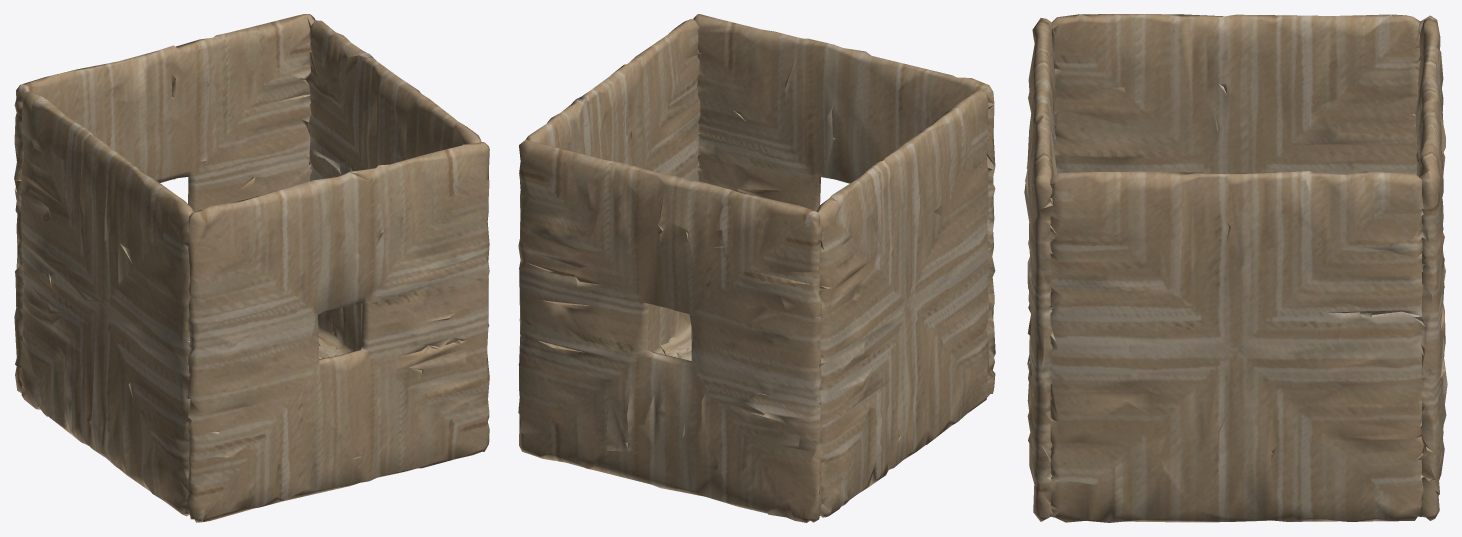
Rendered from knipsa_kosz_20110540.glb.
3 renders of one model, left to right at view 1: azimuth 30°, elevation 25°; view 2: azimuth 150°, elevation 25°; view 3: azimuth 270°, elevation 25°, orthographic. The views are drawn at different scales.
Visible parts, largest first — view 1: knipsa_kosz_20110540; view 2: knipsa_kosz_20110540; view 3: knipsa_kosz_20110540.
Part boxes in pixels (x1,y1,x2,y2): knipsa_kosz_20110540: (14,14,489,522); knipsa_kosz_20110540: (518,14,995,522); knipsa_kosz_20110540: (1024,14,1447,522).
Bounding box in the file's own units: 0.3318 × 0.3188 × 0.3474.
Materials: 1 (1 with a texture image).
